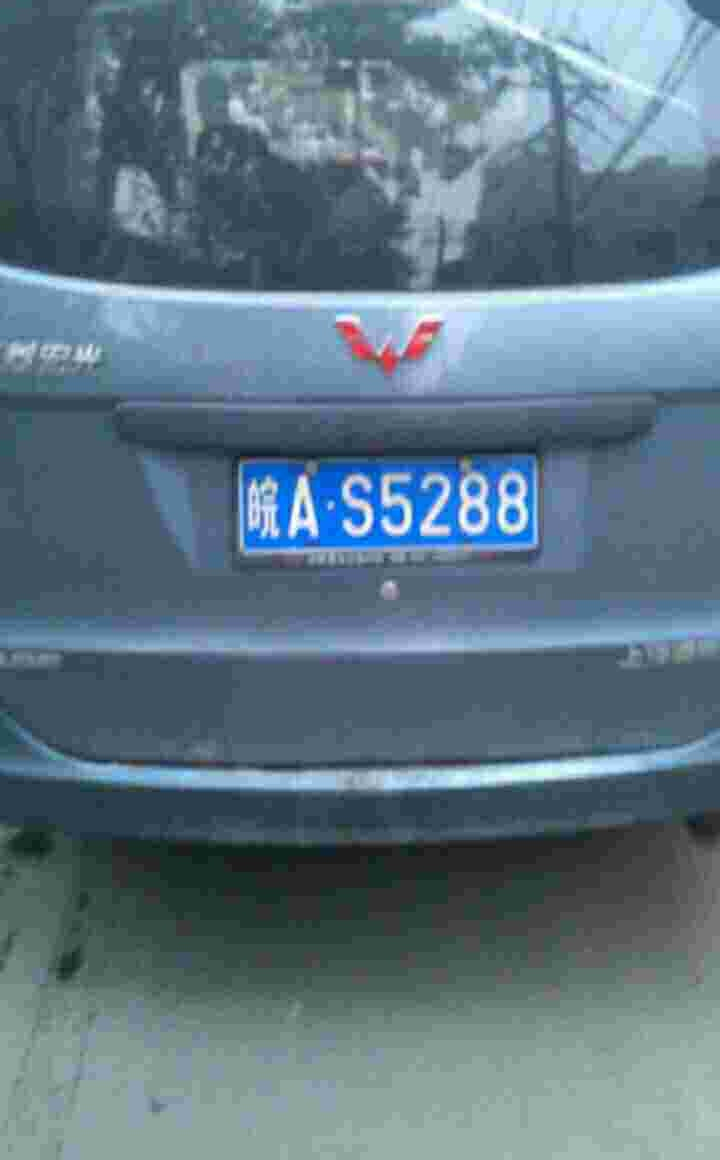license_plate: (251, 462, 539, 537)
